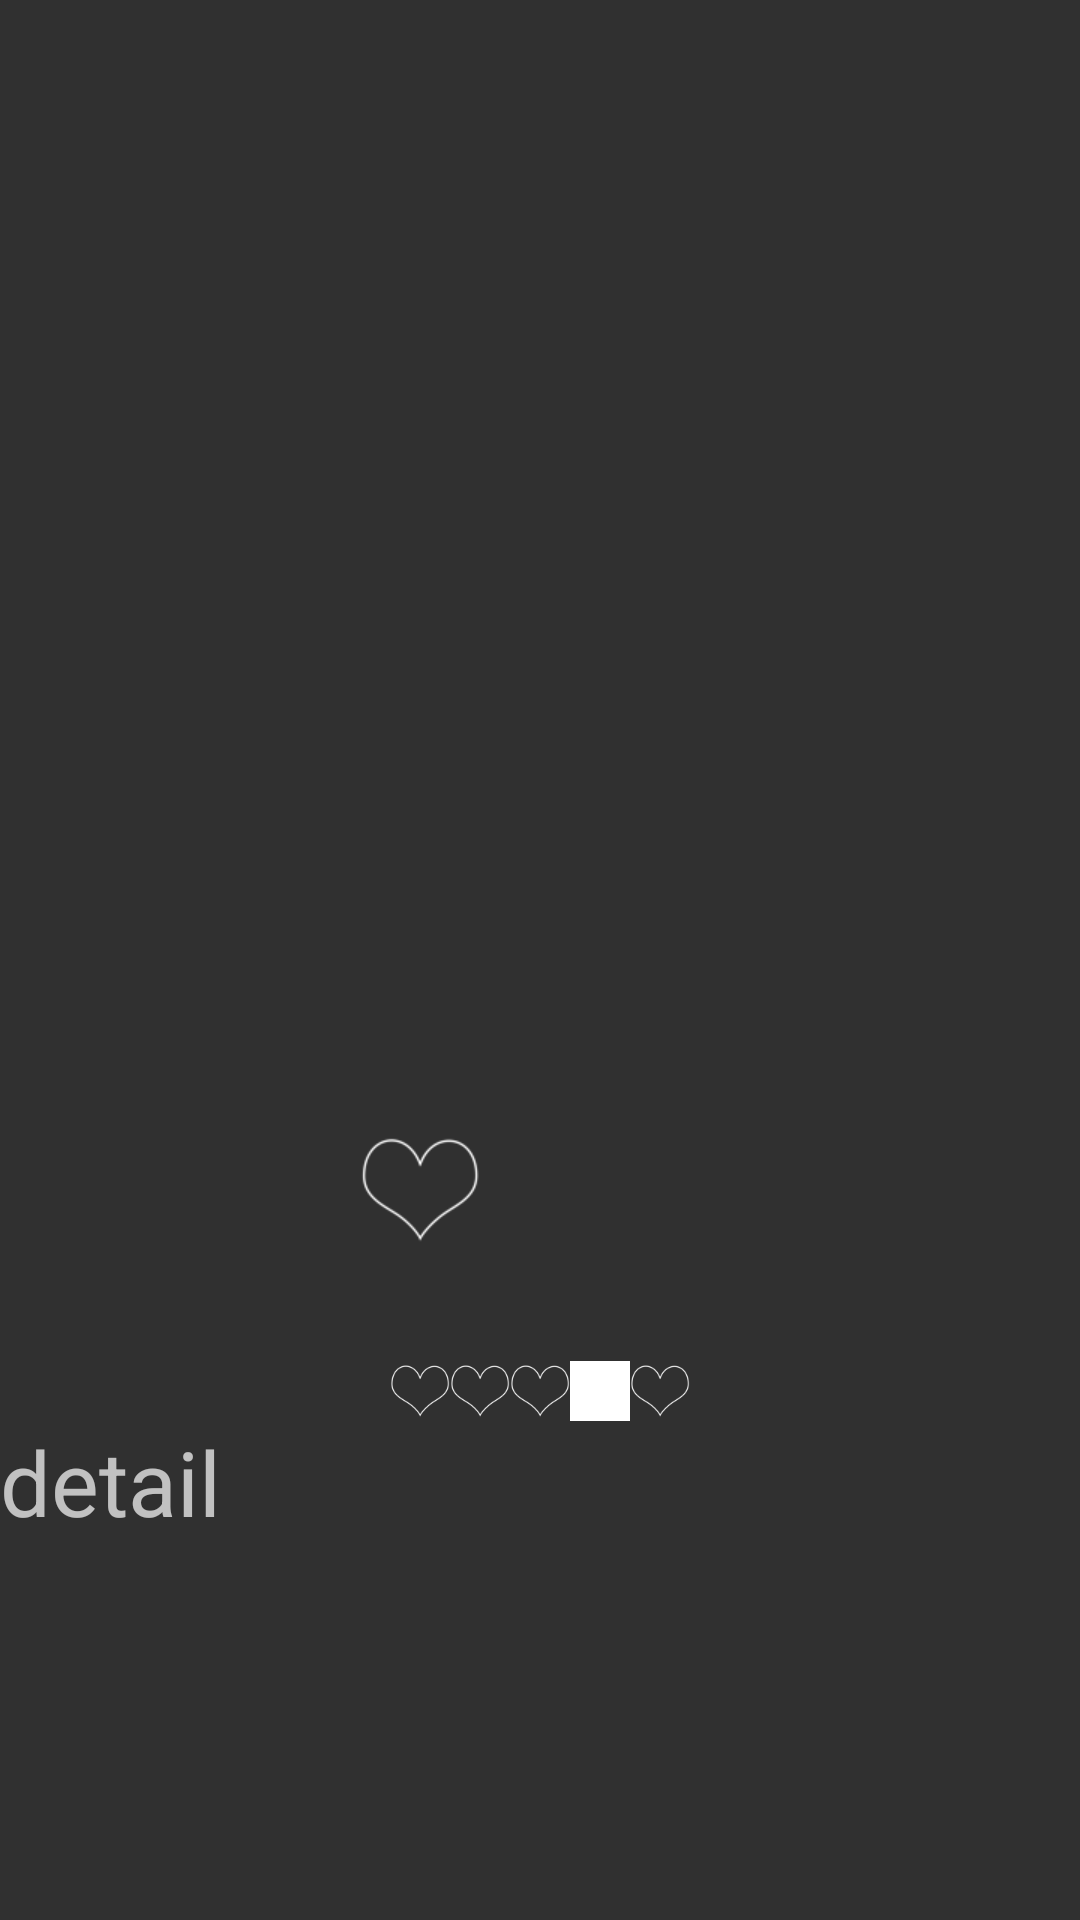

Icon bounding boxes for this 1080w x 1920h phone screenshot, format box(x1, y1, x2, y2):
hearthappiness: box(362, 1138, 479, 1241), box(391, 1365, 449, 1416), box(451, 1365, 509, 1416), box(511, 1365, 569, 1416), box(631, 1365, 689, 1416)
